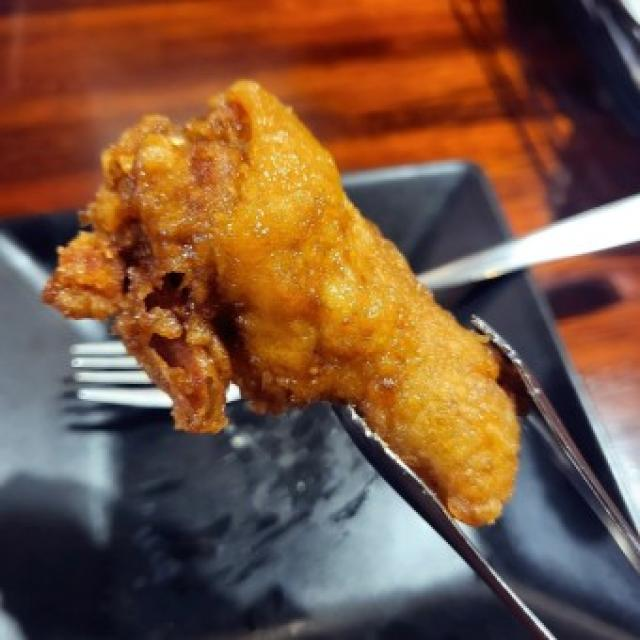Frango: (41, 56, 534, 572)
